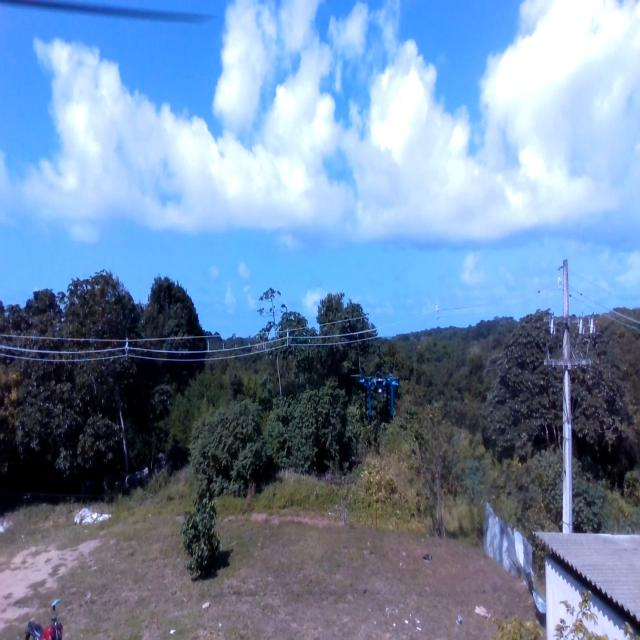-uav-: (348, 362, 408, 432)
